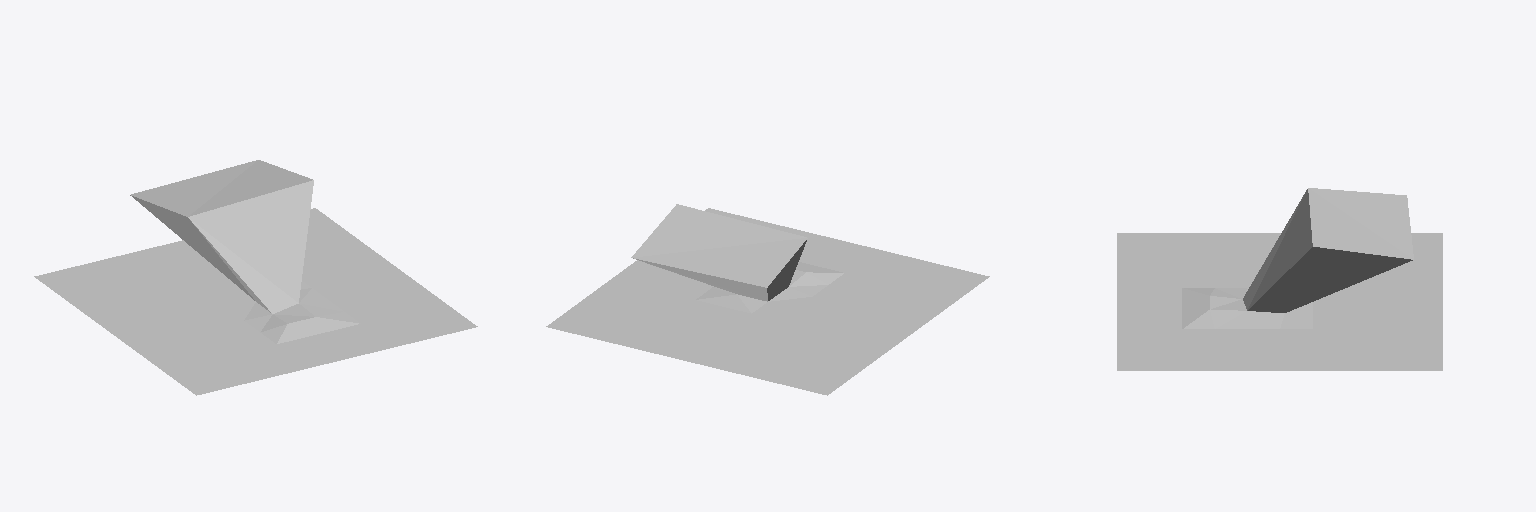
The model's file is ueberhang_tri.obj.
3 renders of one model, left to right at view 1: azimuth 30°, elevation 25°; view 2: azimuth 150°, elevation 25°; view 3: azimuth 270°, elevation 25°, orthographic.
Size of the model in its own units: 68.31 by 21.23 by 68.31.